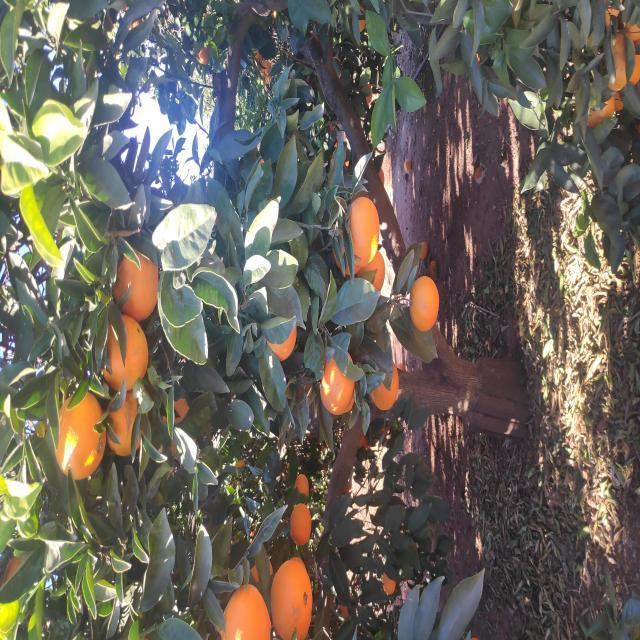Jeruk Sudah Matang: (161, 55, 248, 104), (244, 99, 327, 148), (0, 271, 82, 313), (320, 114, 387, 160), (0, 220, 55, 270), (181, 108, 248, 144), (228, 320, 290, 354), (374, 348, 444, 378), (308, 410, 367, 440), (281, 266, 325, 298), (231, 371, 281, 398), (346, 356, 389, 384), (96, 292, 136, 312), (143, 295, 167, 309), (46, 382, 68, 396), (608, 358, 637, 366), (558, 262, 580, 272), (570, 253, 594, 262), (357, 428, 380, 436), (577, 196, 592, 208), (382, 419, 400, 428), (536, 366, 558, 372), (455, 378, 472, 385), (466, 404, 482, 411)
